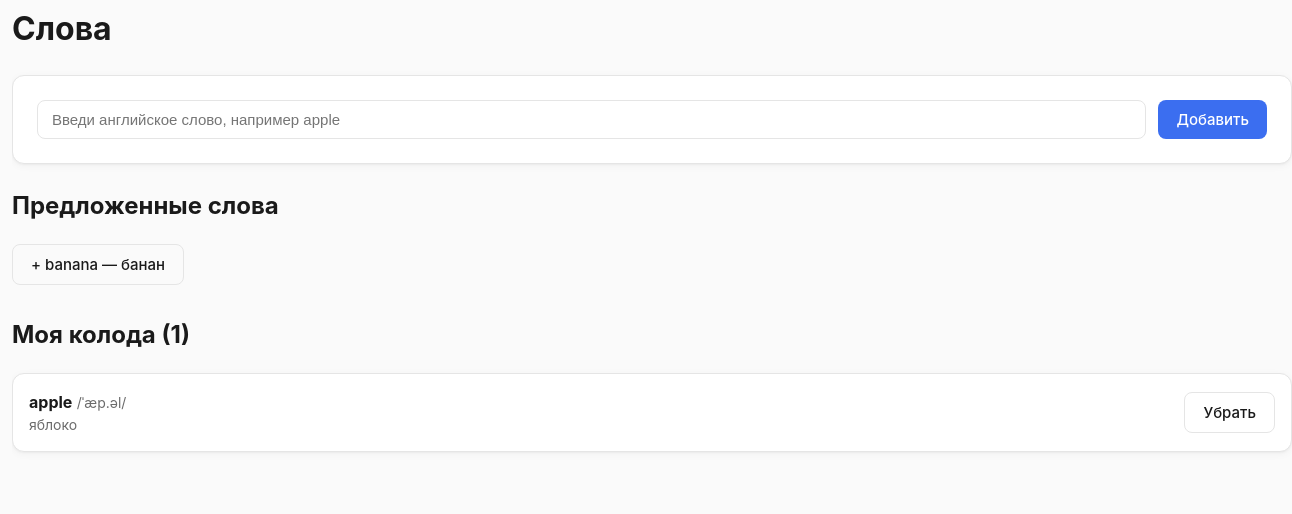
Test: Words - adding a word › shows a generic error message for a network failure (not an ApiError)
Expected: the heading "Моя колода (1)" is shown, top-left (12, 320), bottom-right (190, 349)
Type "apple" into the field with placeholder "Введи английское слово, например apple".
click(592, 119); type("apple")  # box top-left (37, 100), bottom-right (1146, 139)
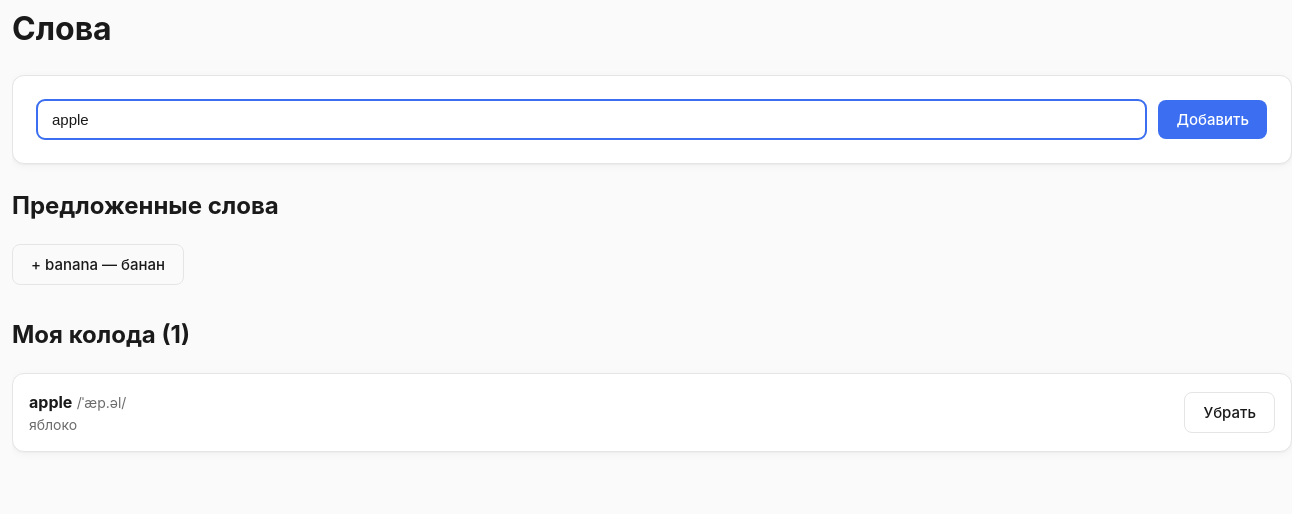
Click the button "Добавить".
click(1213, 119)  # box top-left (1158, 100), bottom-right (1267, 139)
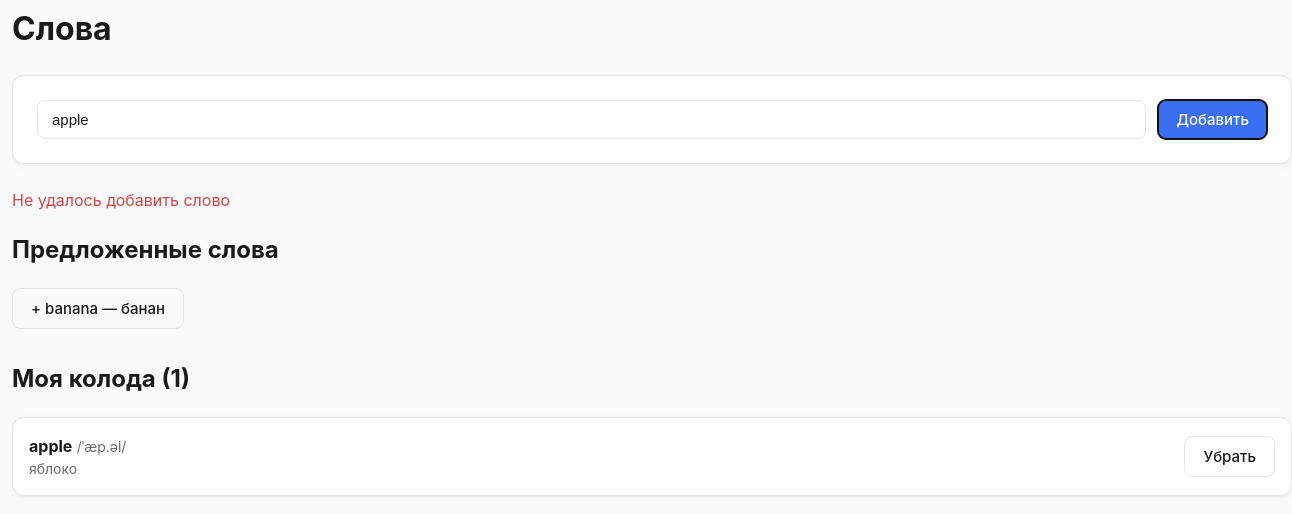
Now the text "Не удалось добавить слово" is shown, box top-left (12, 190), bottom-right (230, 210)
